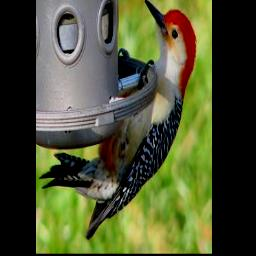Woodpecker: (39, 0, 196, 241)
